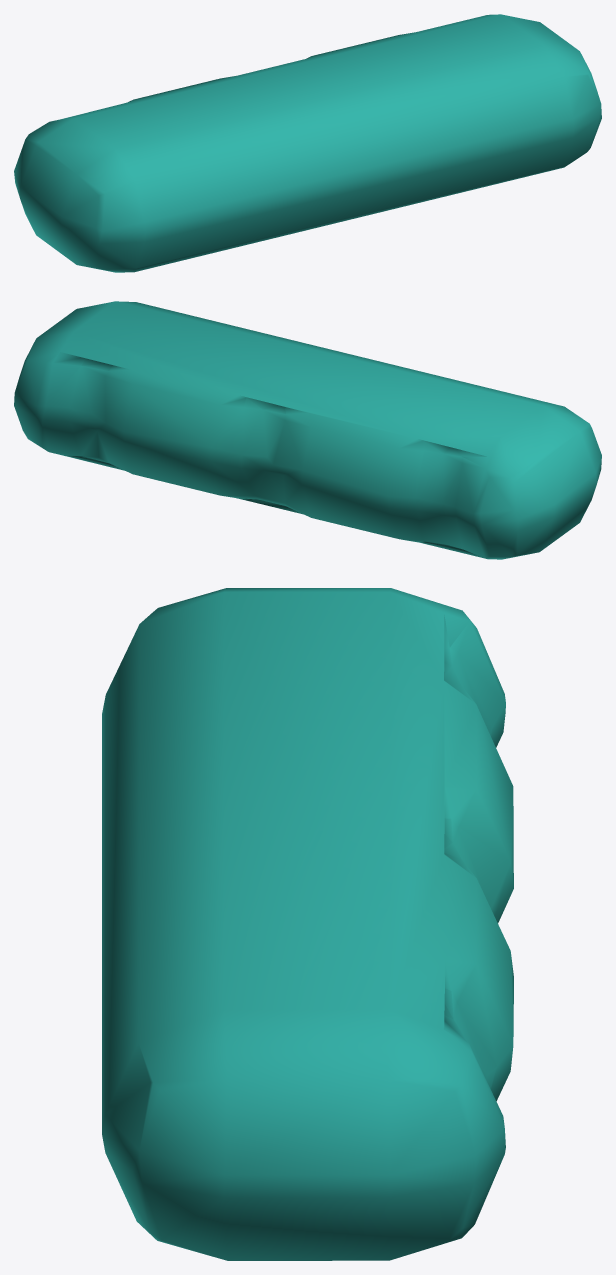
File: shore_spade_grip_lod2.glb
3 views of the same model, one above another, from view 1: azimuth 30°, elevation 25°; view 2: azimuth 150°, elevation 25°; view 3: azimuth 270°, elevation 25° (orthographic). The views are drawn at different scales.
Visible parts, largest first — view 1: shore_spade_grip.001; view 2: shore_spade_grip.001; view 3: shore_spade_grip.001.
Boxes of the visible parts, left/top/right/bottom form: shore_spade_grip.001: left=14, top=14, right=601, bottom=272; shore_spade_grip.001: left=14, top=301, right=601, bottom=559; shore_spade_grip.001: left=102, top=588, right=513, bottom=1260.
Size of the model in its own units: 8.99 by 1.98 by 3.
